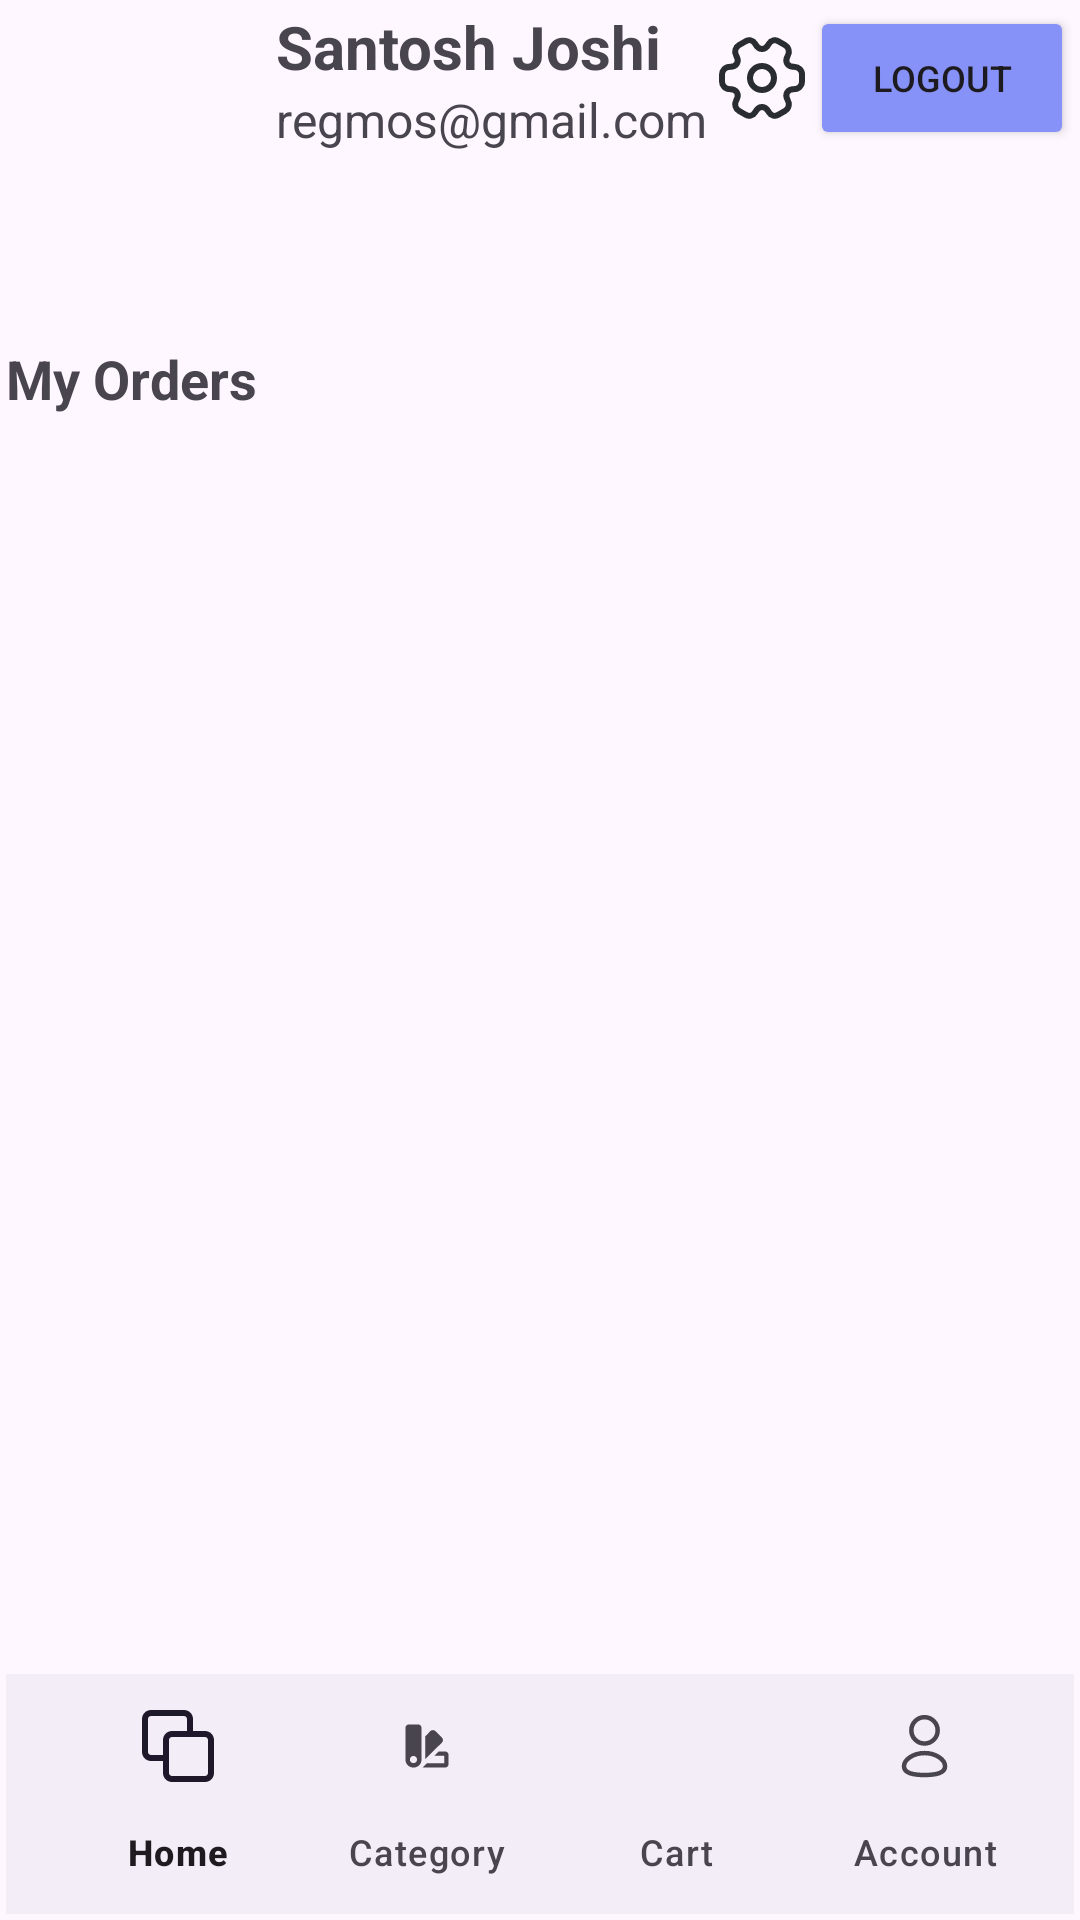

Screen size 1080px x 1920px. Icon name, then its center in pixels as (x,y):
Settings: (762,78)
